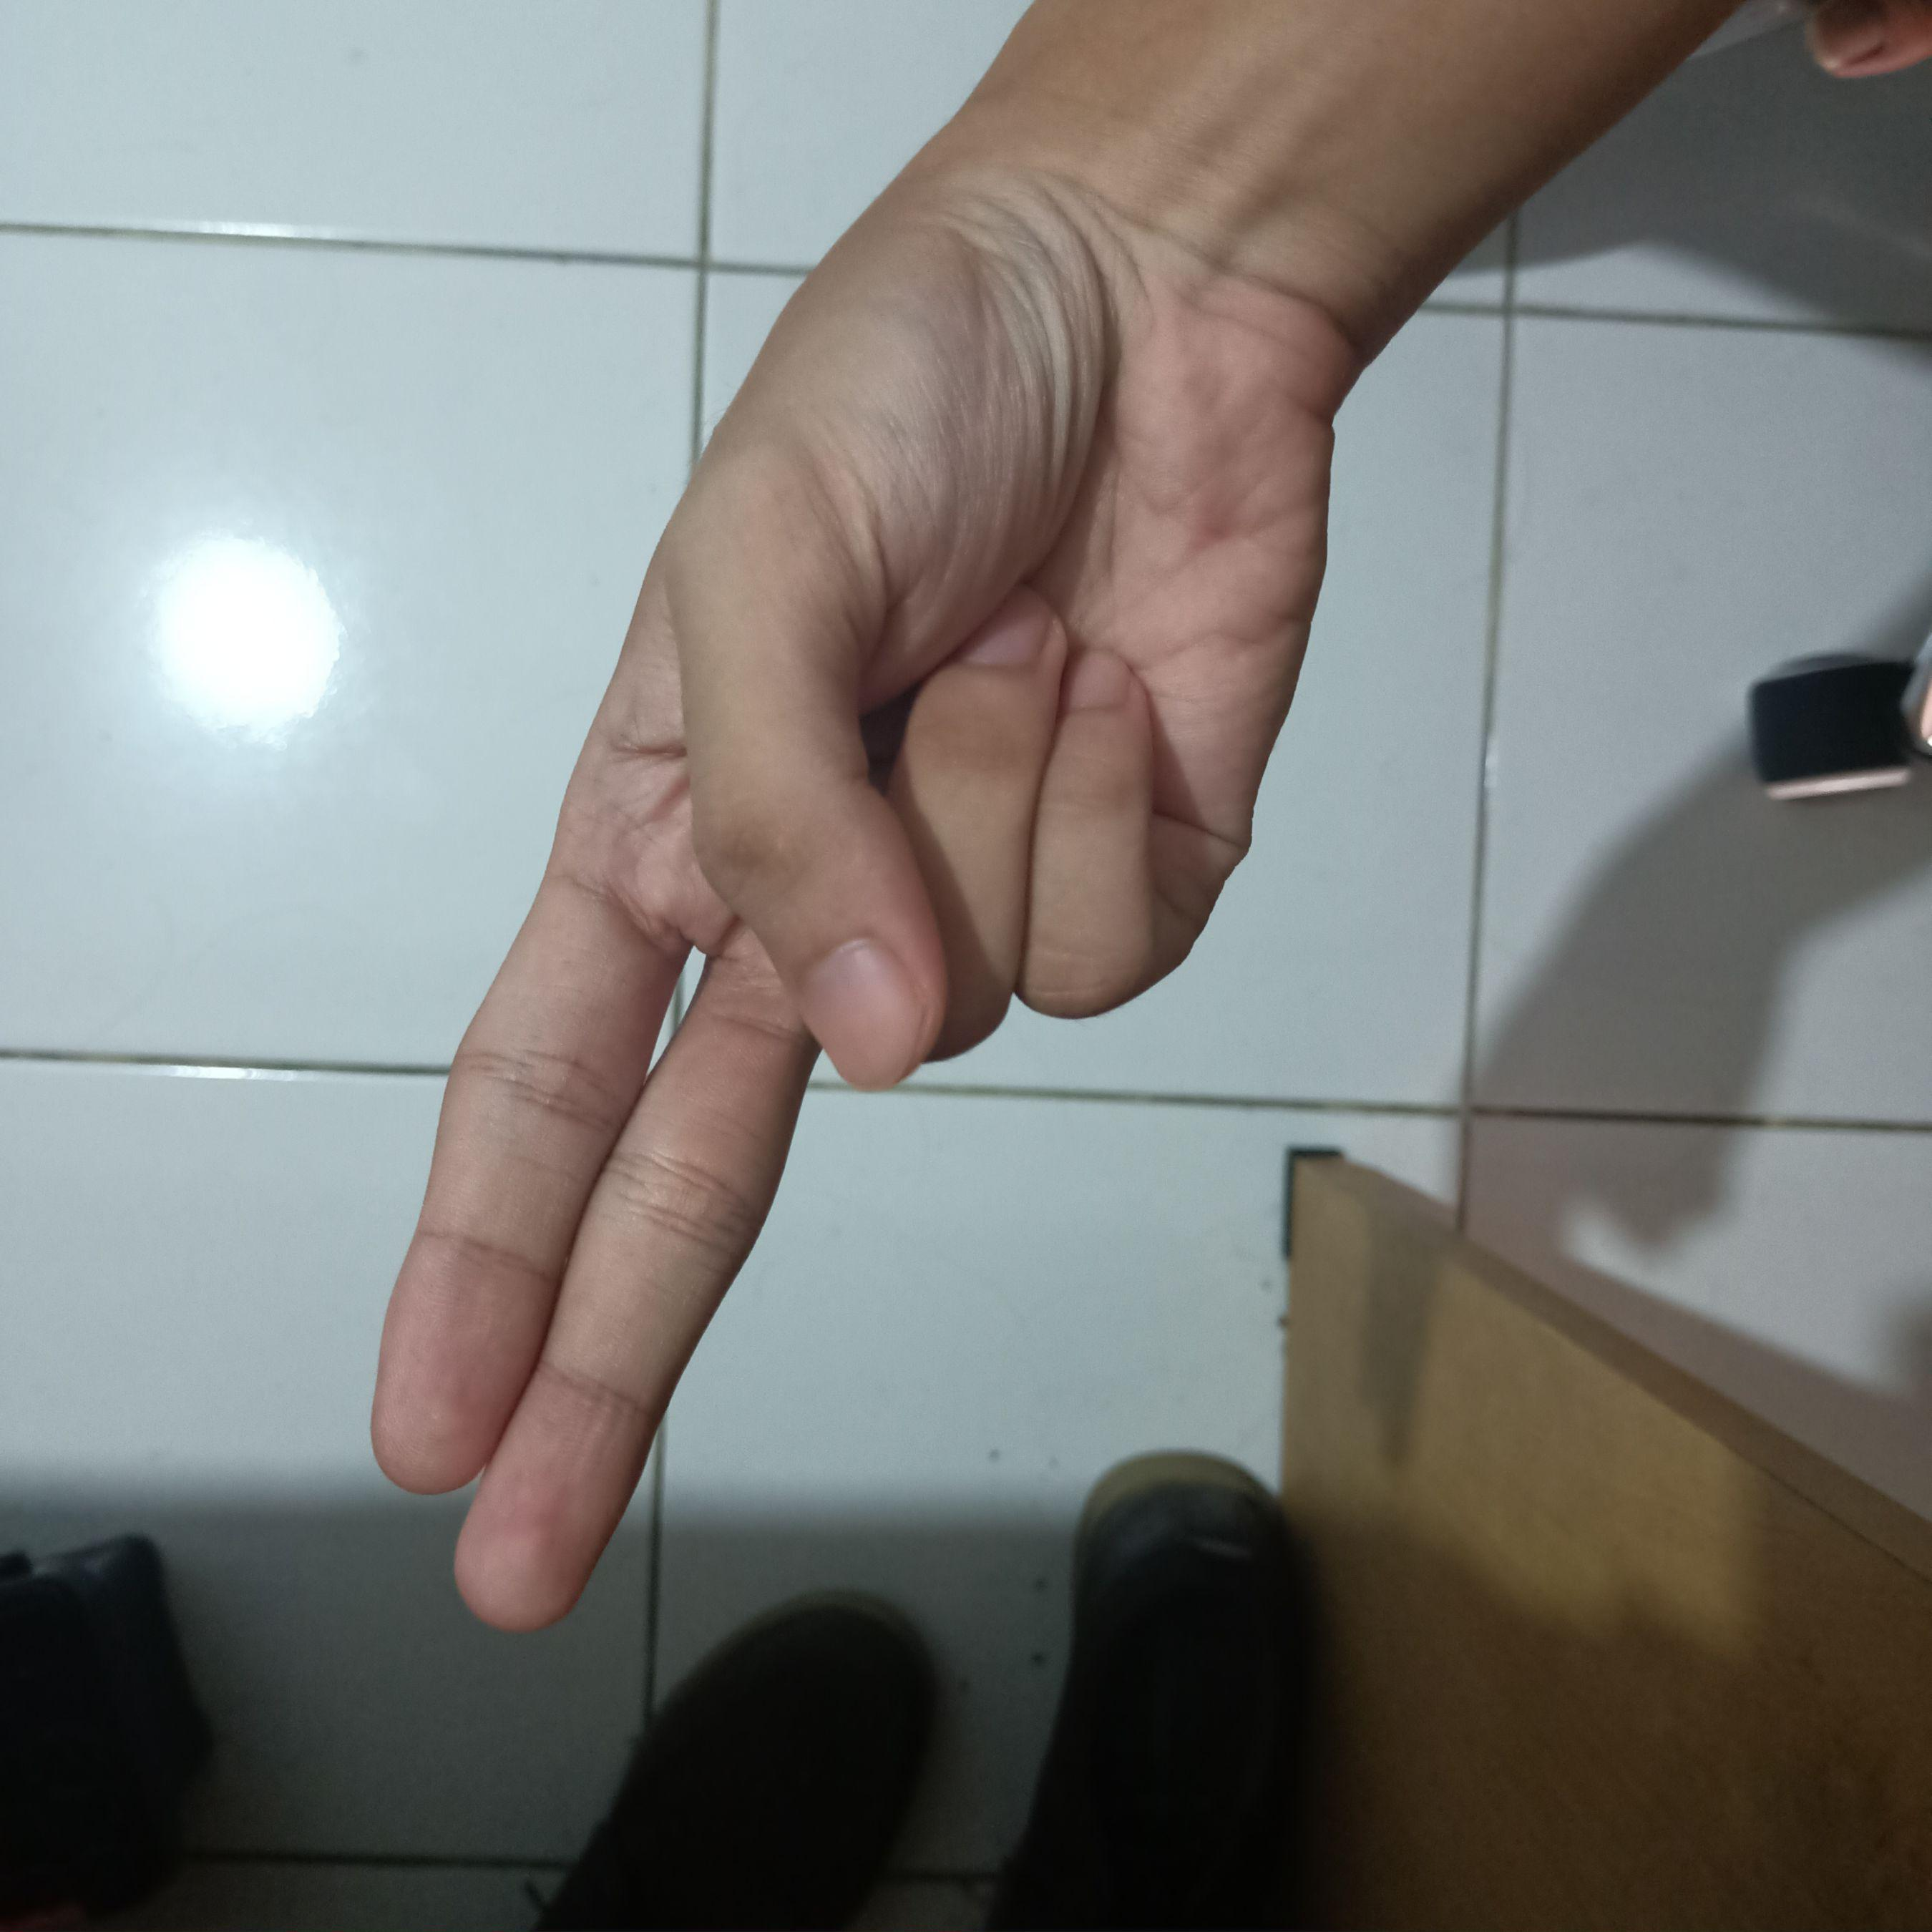scissors: (334, 131, 1371, 1656)
